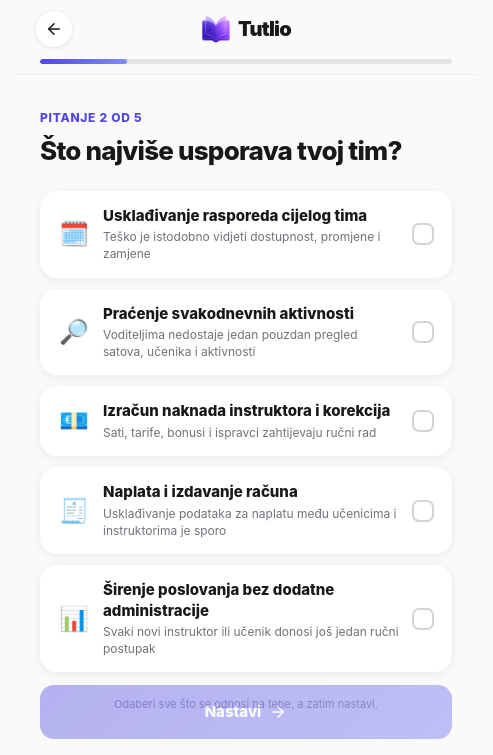
Croatian quiz interface › retains Croatian on the business challenge-to-insight transition
Expected: the button with test id "floating-proceed" is disabled, top-left (40, 685), bottom-right (452, 739)
What coordinates should you click on to do the following:
click the checkbox labelled "Usklađivanje rasporeda cijelog tima"
I would click on:
 (246, 234)
Its box is top-left (40, 191), bottom-right (452, 278).
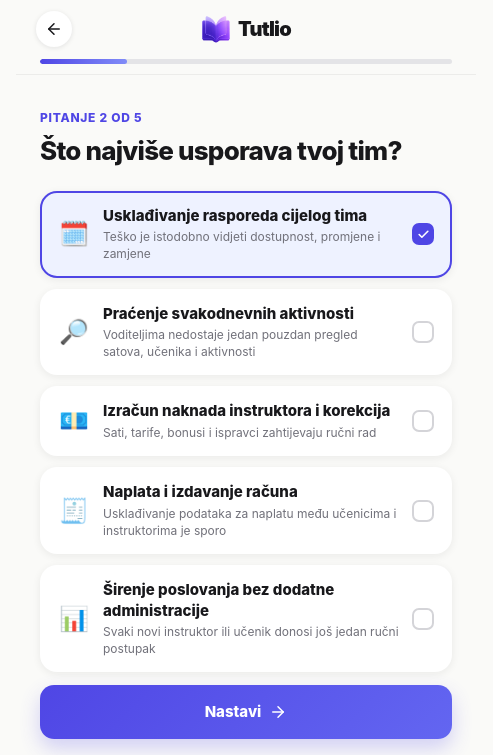
What coordinates should you click on to do the following:
click the checkbox labelled "Izračun naknada instruktora i korekcija"
I would click on:
 (246, 421)
Its box is top-left (40, 386), bottom-right (452, 456).
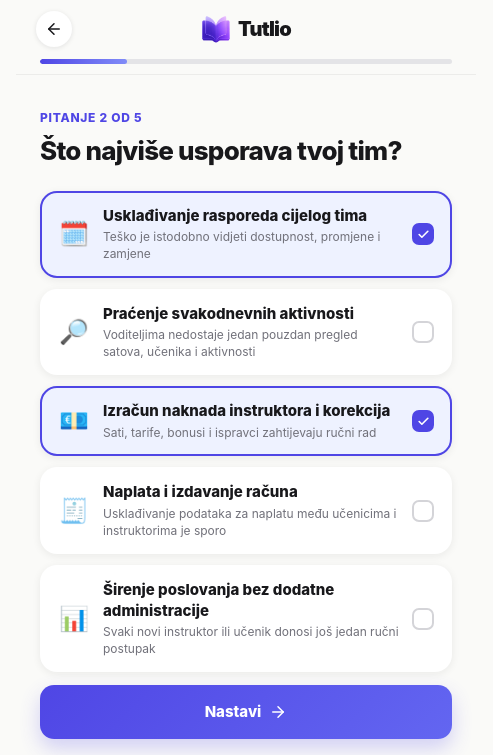
Expected: the button with test id "floating-proceed" is enabled
What coordinates should you click on to do the following:
click the button with test id "floating-proceed"
I would click on:
 (246, 712)
Its box is top-left (40, 685), bottom-right (452, 739).
Wait 500 ms
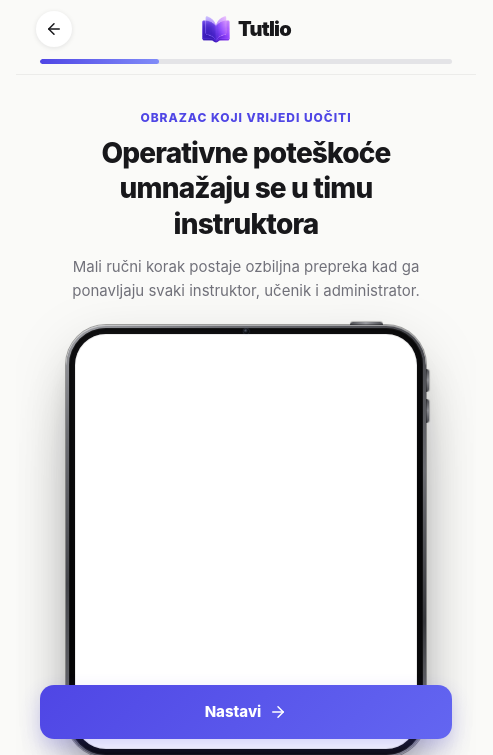
Expected: the heading "Operativne poteškoće umnažaju se u timu instruktora" is shown, top-left (102, 136), bottom-right (390, 240)
